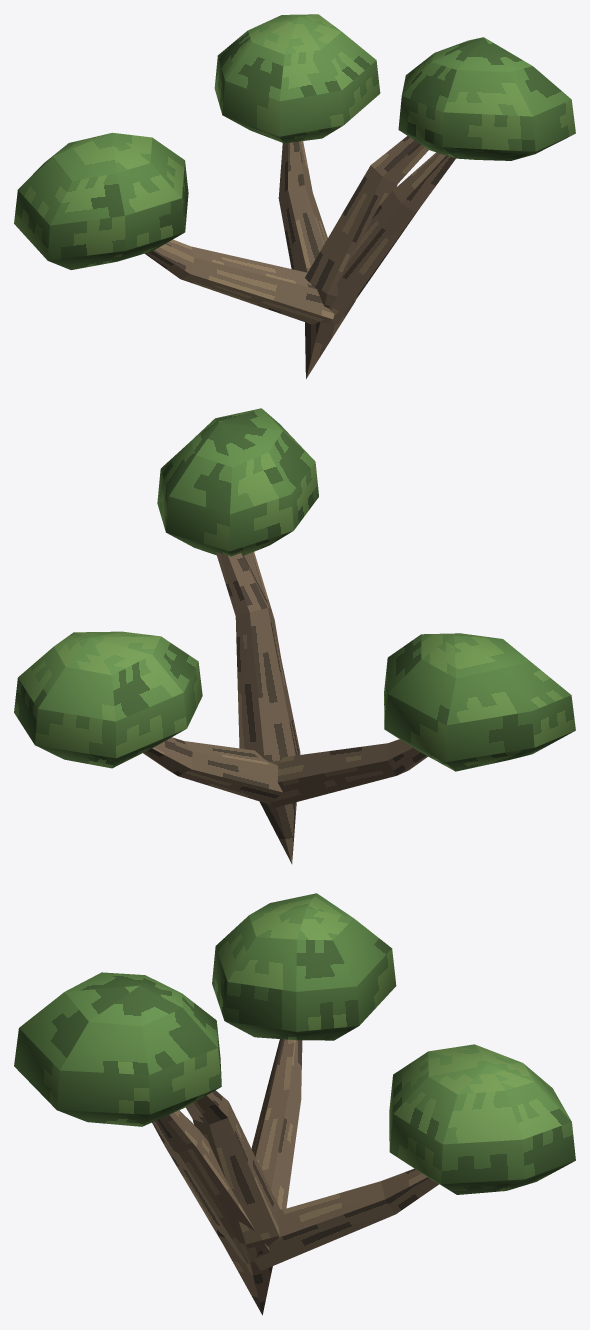
The model's file is t_treetop.glb.
3 views of the same model, one above another, from view 1: azimuth 30°, elevation 25°; view 2: azimuth 150°, elevation 25°; view 3: azimuth 270°, elevation 25° (orthographic). The views are drawn at different scales.
Parts seen in each view (by area): view 1: t_treetop_mesh; view 2: t_treetop_mesh; view 3: t_treetop_mesh.
Part boxes in pixels (x1,y1,x2,y2): t_treetop_mesh: [14, 14, 575, 378]; t_treetop_mesh: [14, 408, 575, 863]; t_treetop_mesh: [14, 893, 575, 1315].
Bounding box in the file's own units: 1.15 × 0.87 × 1.11.
1 material, 1 textured.
